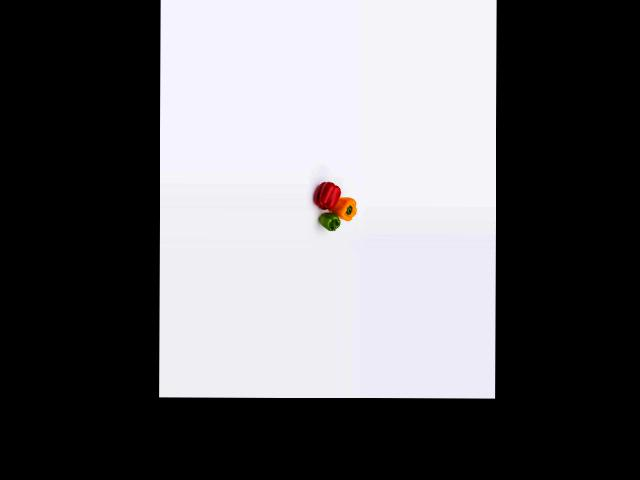bell_pepper: (318, 211, 342, 235)
